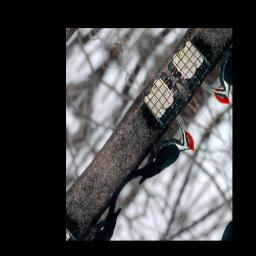Woodpecker: (114, 103, 200, 214)
